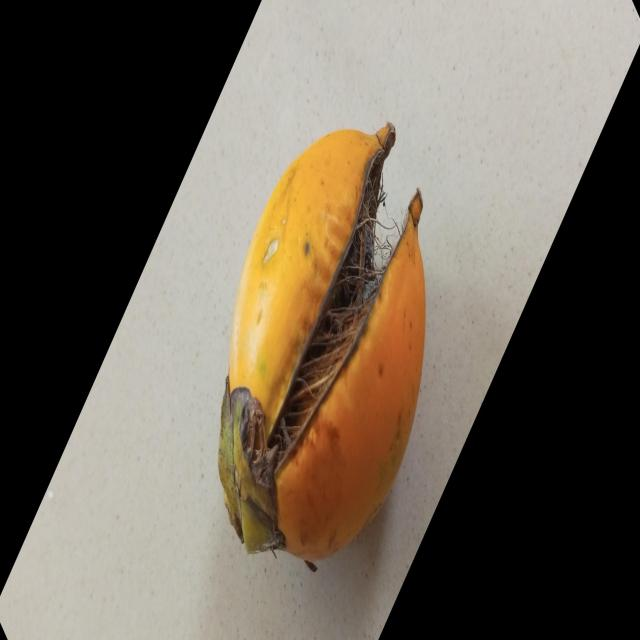damaged: (220, 125, 420, 551), (265, 195, 426, 563)
